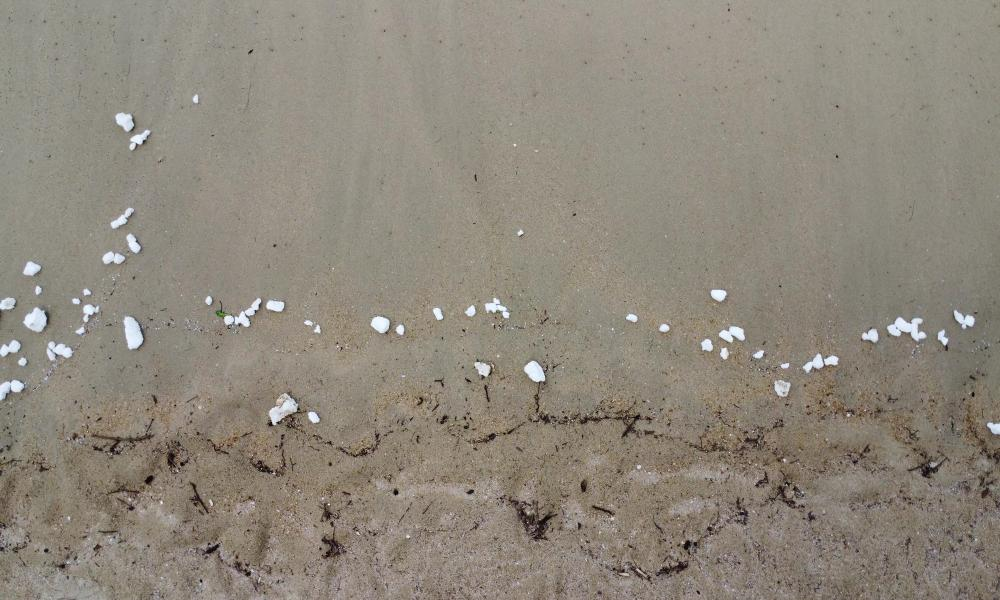styrofoam: (694, 275, 749, 368), (462, 351, 571, 395), (414, 298, 524, 334), (198, 295, 290, 330), (752, 343, 799, 403), (898, 291, 934, 369), (931, 308, 986, 358), (110, 106, 156, 161), (266, 386, 300, 453), (108, 211, 144, 273), (610, 316, 689, 338), (835, 323, 897, 349), (365, 314, 413, 346), (784, 360, 851, 381), (120, 317, 148, 353), (0, 332, 26, 367), (0, 379, 39, 400), (23, 305, 52, 331), (73, 290, 89, 334), (0, 284, 23, 314), (38, 344, 78, 360), (17, 264, 53, 277)
